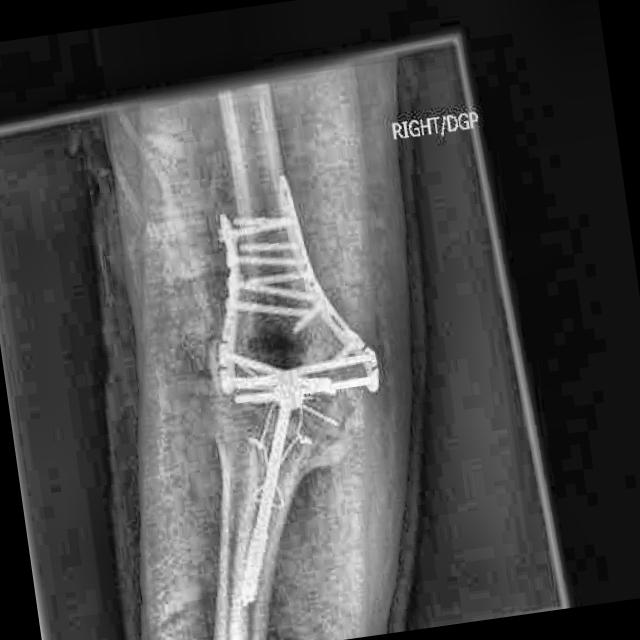elbow positive: (309, 381, 379, 466)
